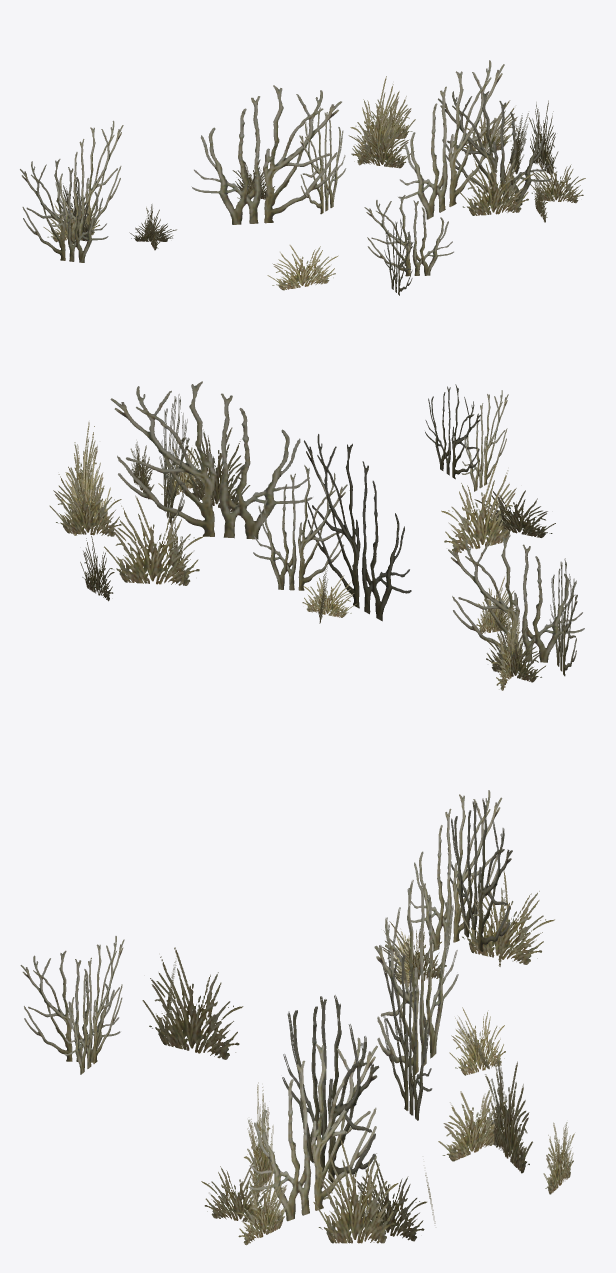
File: DN_grass05e.FBX
The picture shows the model from 3 angles, top to bottom: view 1: azimuth 30°, elevation 25°; view 2: azimuth 150°, elevation 25°; view 3: azimuth 270°, elevation 25°; orthographic projection. The views are drawn at different scales.
Parts seen in each view (by area): view 1: DN_grass05e; view 2: DN_grass05e; view 3: DN_grass05e.
Boxes of the visible parts, x1,y1,x2,y2 form: DN_grass05e: [20, 60, 585, 295]; DN_grass05e: [49, 381, 584, 690]; DN_grass05e: [20, 790, 574, 1245].
Size of the model in its own units: 218 by 65.08 by 150.
